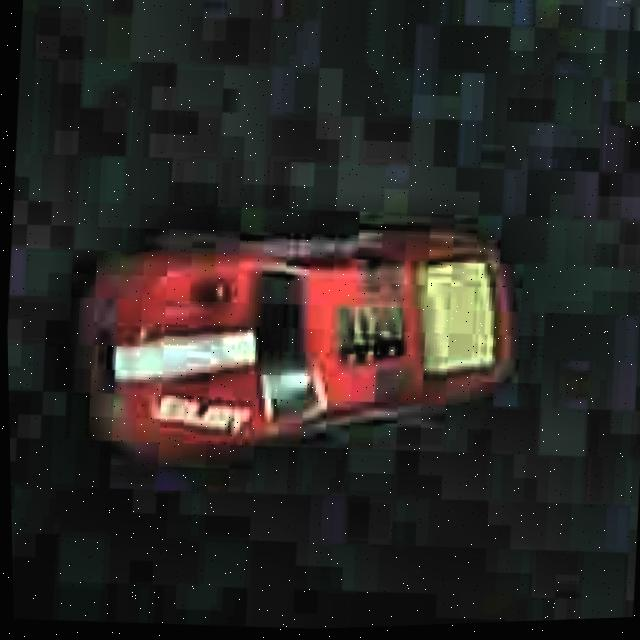car: (60, 186, 534, 494)
